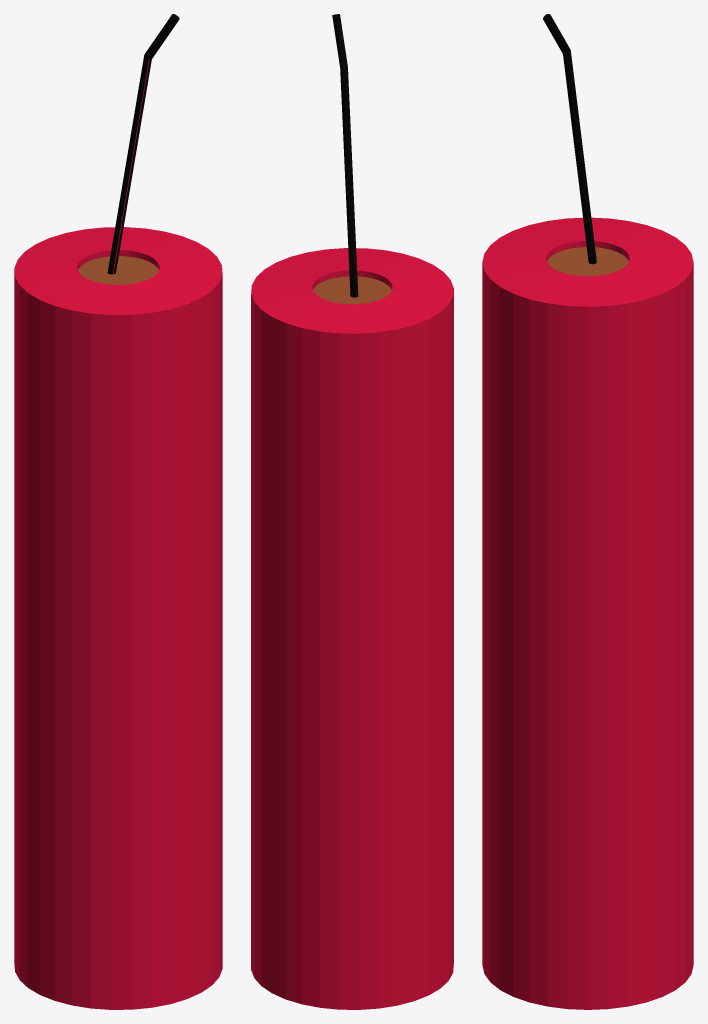
File: Dynamite.fbx
3 views of the same model, side by side, from view 1: azimuth 30°, elevation 25°; view 2: azimuth 150°, elevation 25°; view 3: azimuth 270°, elevation 25° (orthographic). The views are drawn at different scales.
Visible parts, largest first — view 1: Cylinder; view 2: Cylinder; view 3: Cylinder.
Part boxes in pixels (<box>): Cylinder: <box>14,14,222,1009</box>; Cylinder: <box>251,14,453,1009</box>; Cylinder: <box>482,14,693,1009</box>.
Size of the model in its own units: 200 by 1012 by 200.
